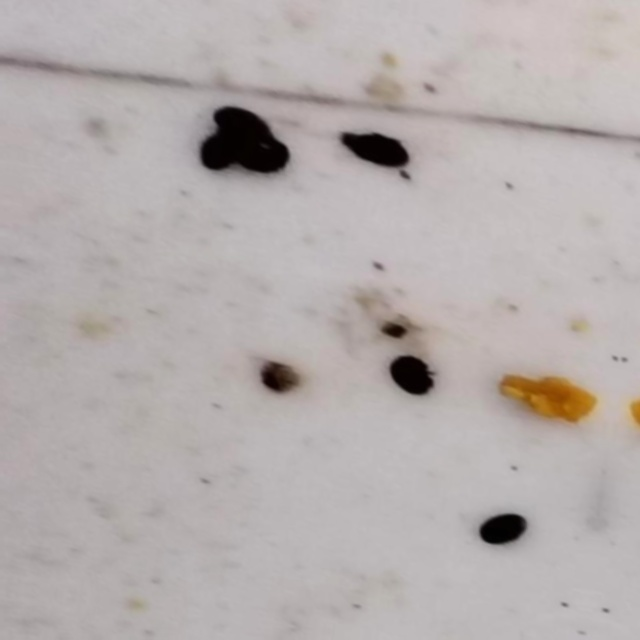varroa: (333, 130, 412, 173), (202, 102, 276, 144), (234, 137, 294, 182), (383, 355, 438, 403), (476, 510, 528, 553), (195, 132, 243, 173)
